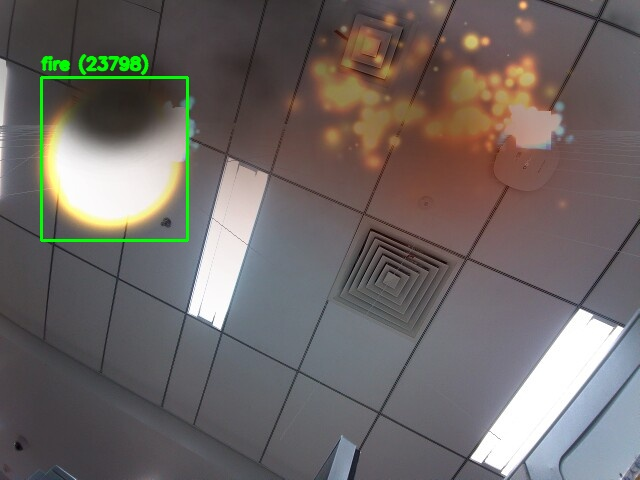fire: (41, 77, 187, 240)
